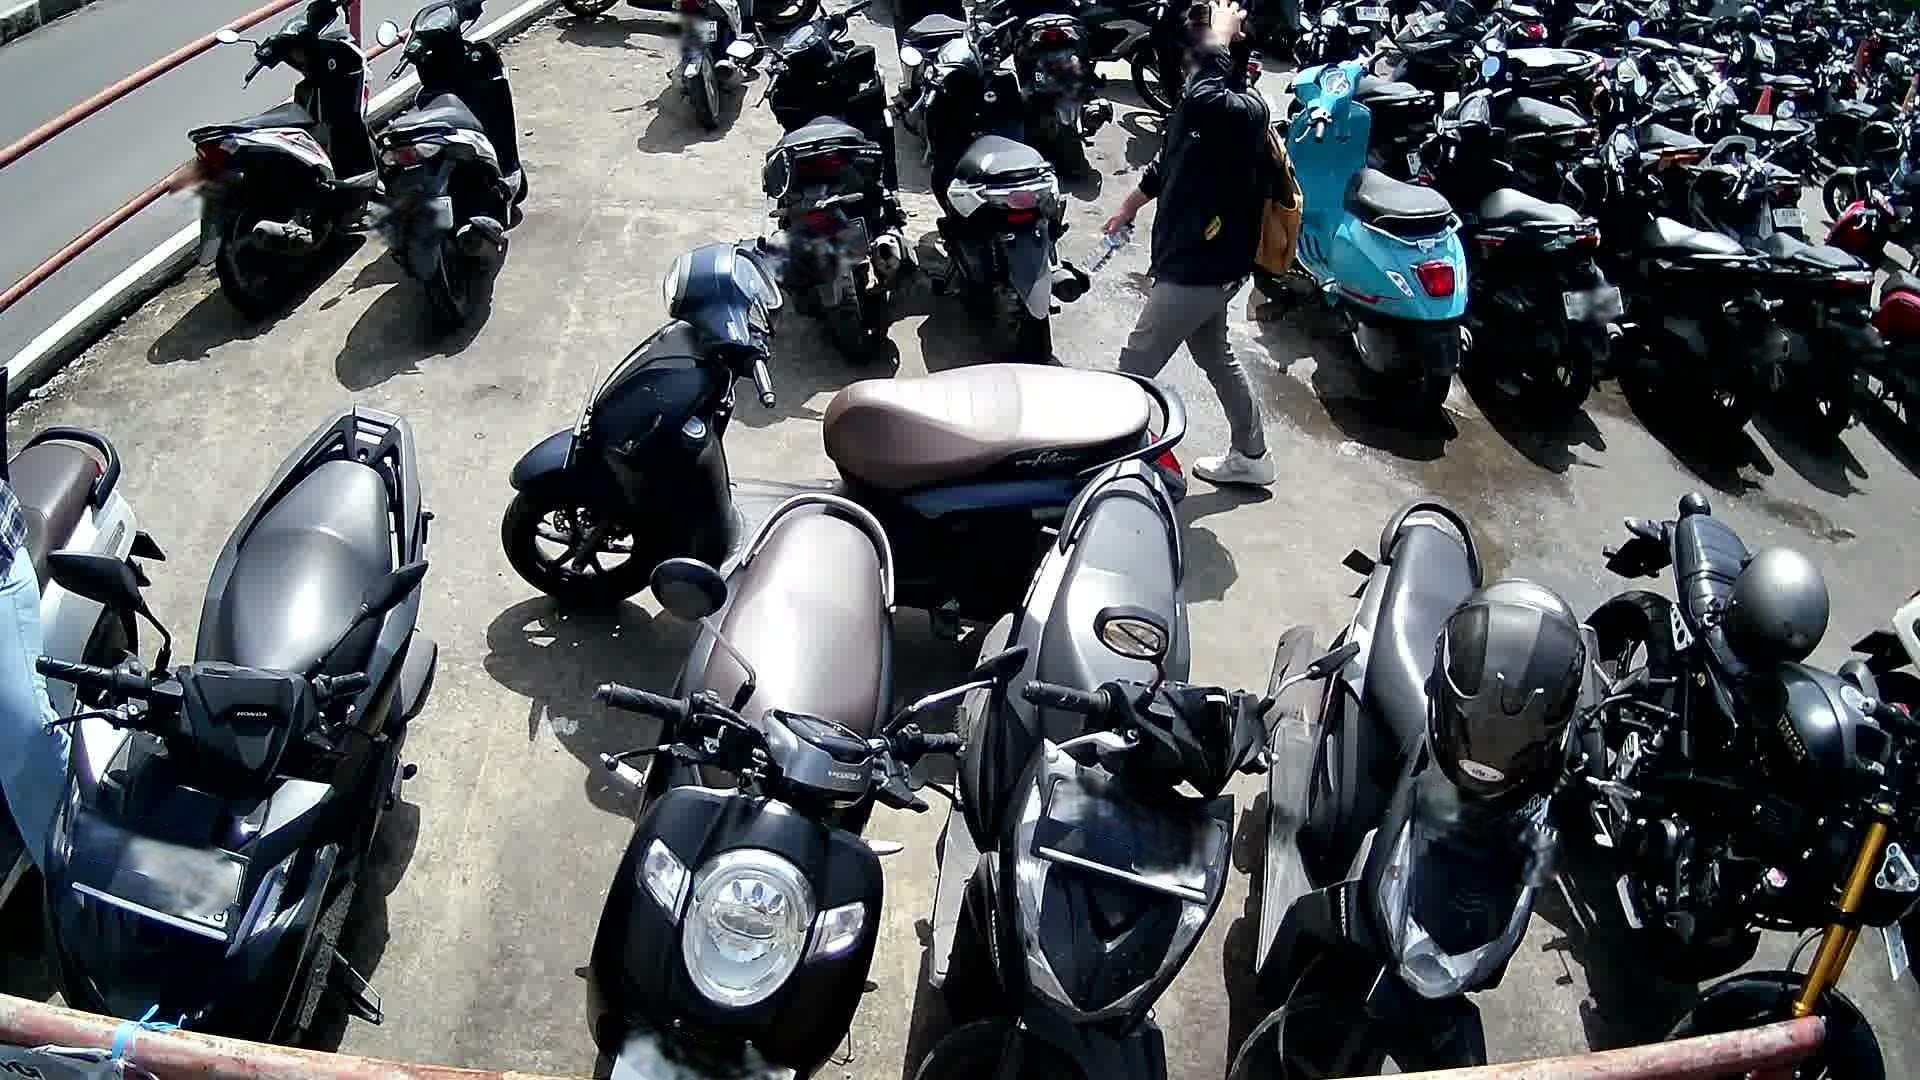motorcycle: (500, 212, 1189, 611), (37, 409, 436, 1043), (911, 456, 1304, 1080), (587, 493, 963, 1080), (1241, 500, 1614, 1080), (1580, 493, 1920, 1080), (0, 427, 165, 911), (1404, 63, 1623, 422), (1552, 109, 1792, 436), (1284, 50, 1473, 425), (728, 1, 924, 357), (899, 15, 1091, 364), (1675, 135, 1882, 443), (189, 0, 378, 320), (376, 0, 530, 332), (1826, 185, 1920, 439)
